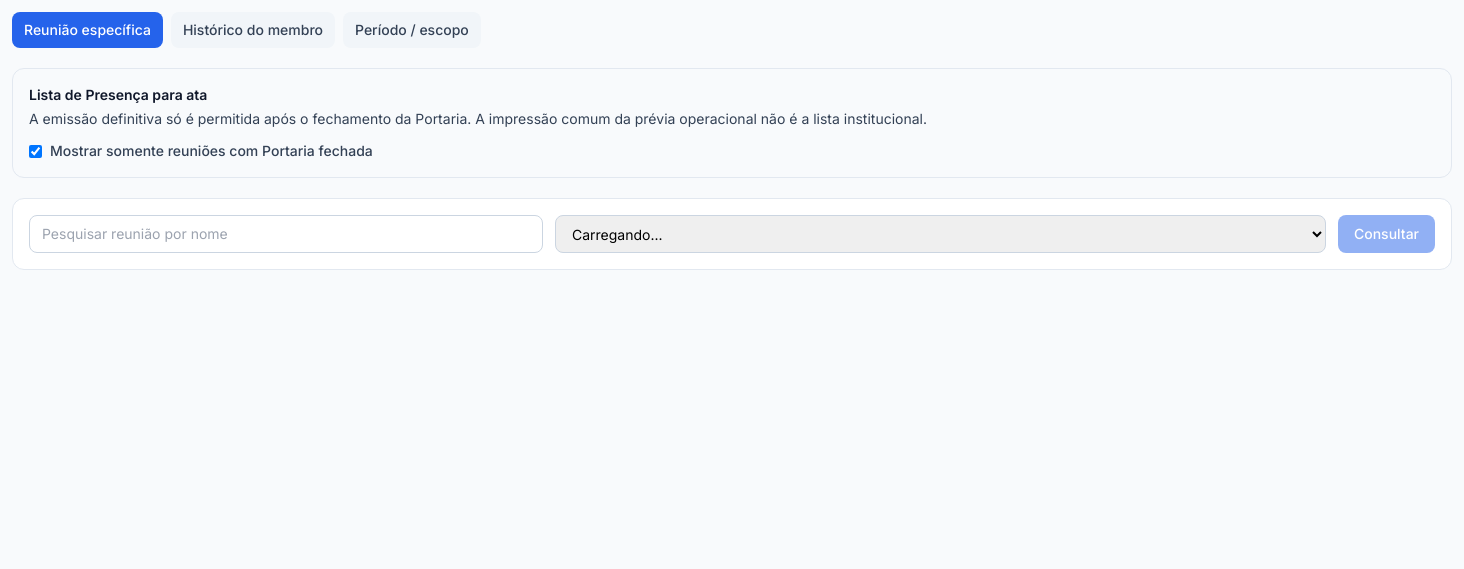
Scenario: REL-PRES-03 — seletores amigáveis dos relatórios de presença › pesquisa e seleciona membro por nome para consultar histórico
Click the button "Histórico do membro" at (253, 30), box [171, 12, 335, 48]
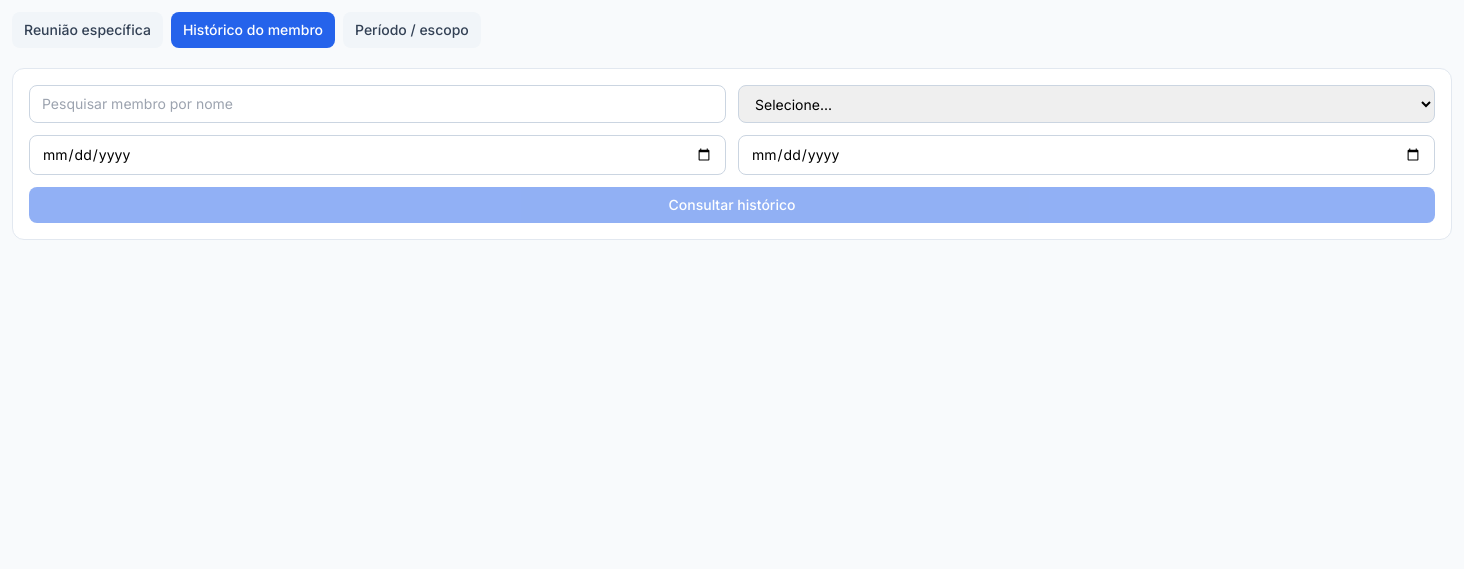
Type "Membro" into the field labelled "Pesquisar membro" at (378, 104), box [29, 85, 726, 123]
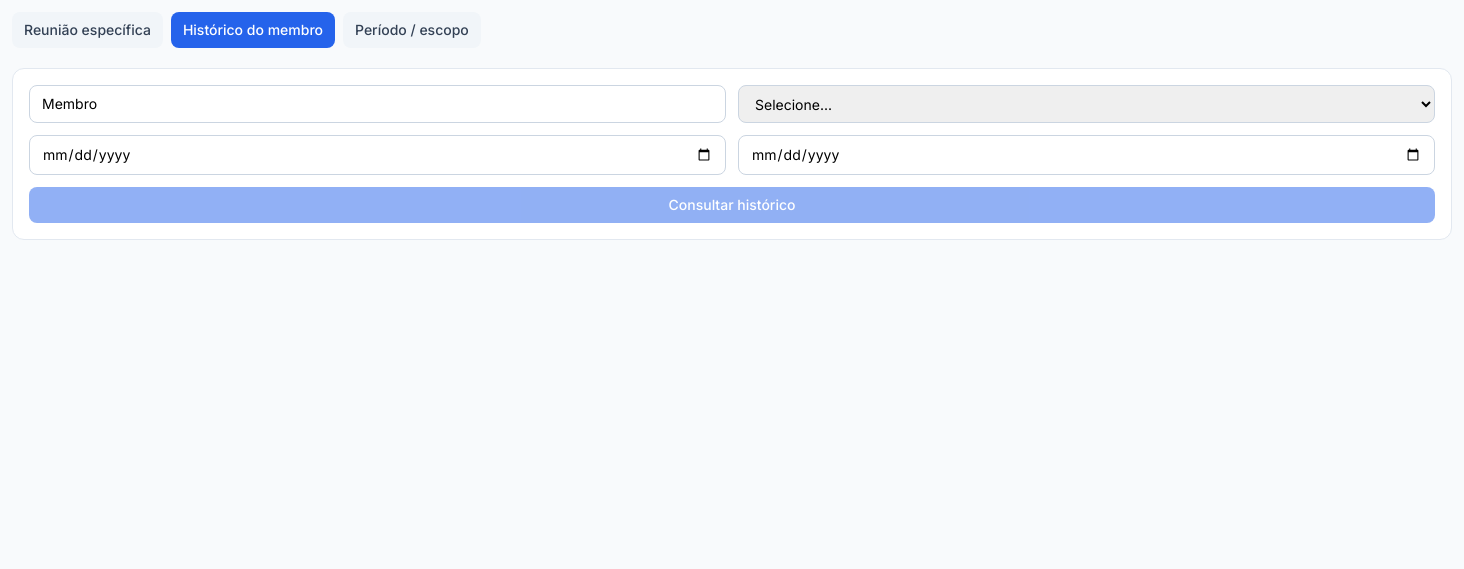
Select "Membro Alvo" in the dropdown named "Selecionar membro" at (1086, 104), box [738, 85, 1435, 123]
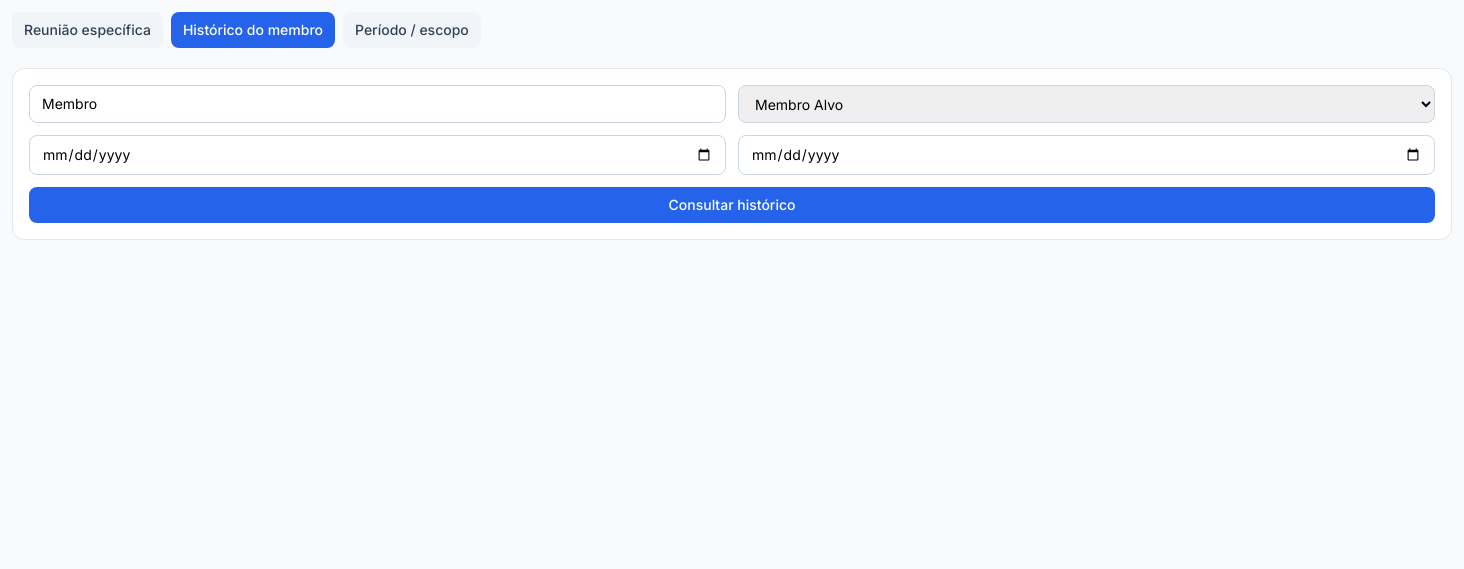
Click the button "Consultar histórico" at (732, 205), box [29, 187, 1435, 223]
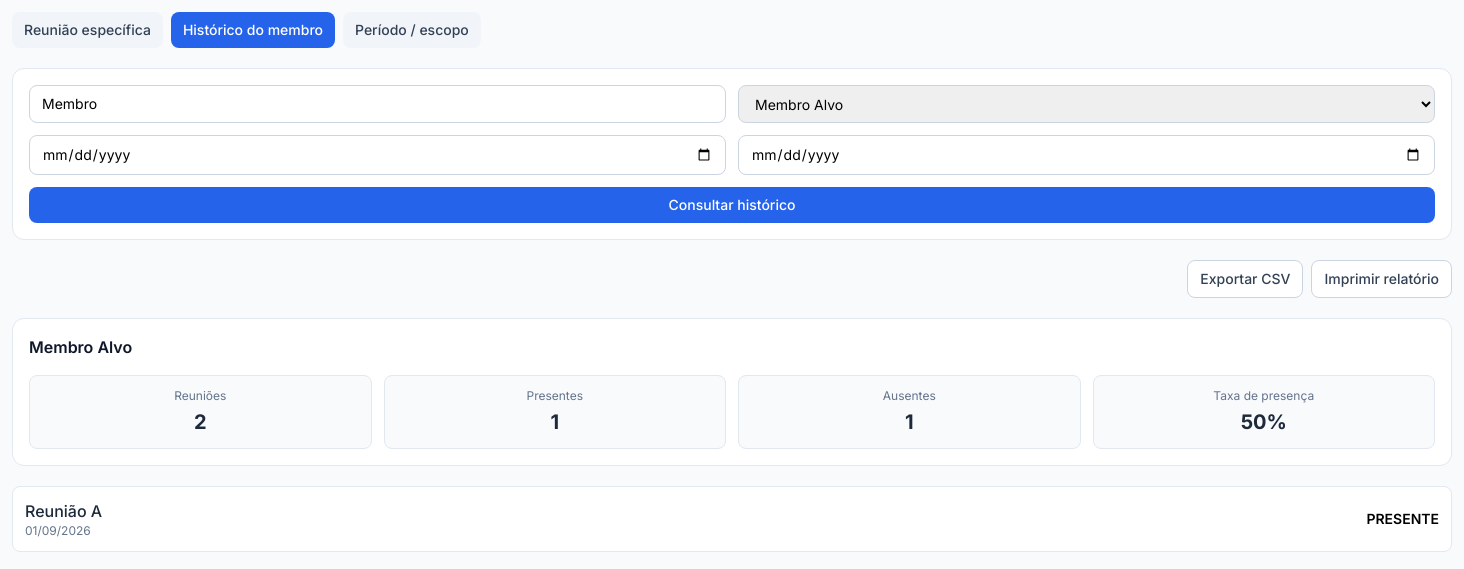
Expected: the text "Reunião A" is shown, [25, 499, 102, 523]
Expected: the text "50%" is shown, [1241, 410, 1287, 434]
